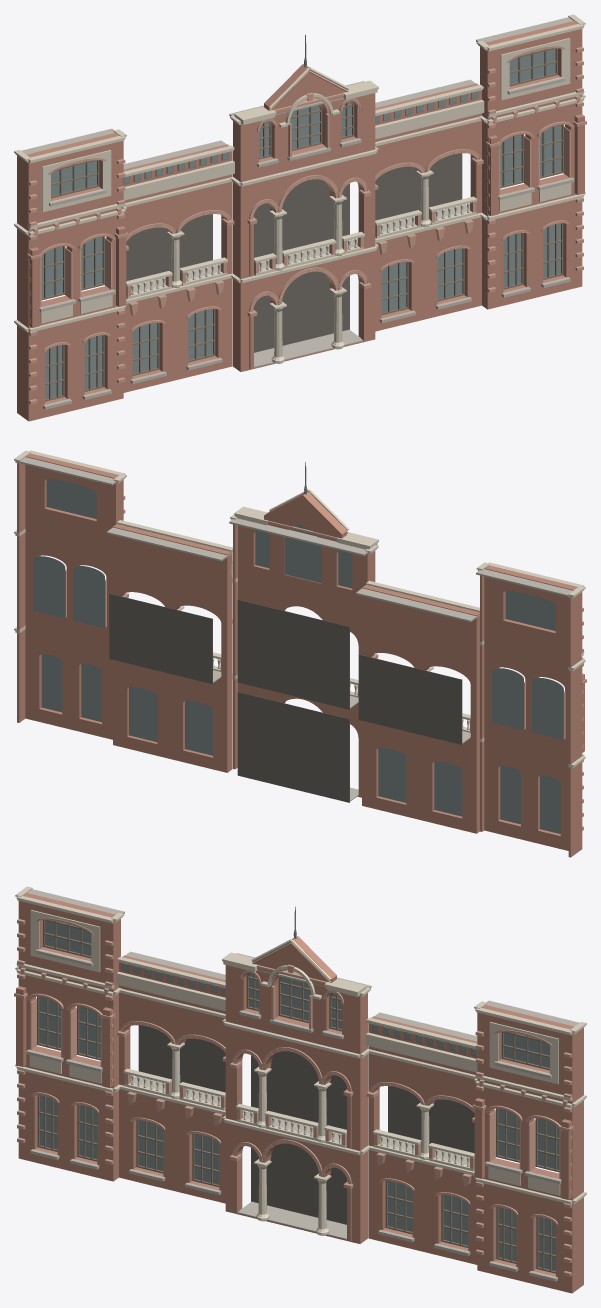
File: huangpu-ruikang-comprador-residence-lod.glb
3 renders of one model, top to bottom at view 1: azimuth 30°, elevation 25°; view 2: azimuth 150°, elevation 25°; view 3: azimuth 330°, elevation 25°, orthographic.
Parts seen in each view (by area): view 1: 瑞康洋行买办住宅（贝润生宅）历史庭院立面; view 2: 瑞康洋行买办住宅（贝润生宅）历史庭院立面; view 3: 瑞康洋行买办住宅（贝润生宅）历史庭院立面.
Part boxes in pixels (<box>): 瑞康洋行买办住宅（贝润生宅）历史庭院立面: <box>14,14,586,421</box>; 瑞康洋行买办住宅（贝润生宅）历史庭院立面: <box>14,450,586,857</box>; 瑞康洋行买办住宅（贝润生宅）历史庭院立面: <box>14,886,586,1293</box>.
Size of the model in its own units: 30.44 by 16.59 by 2.42.
